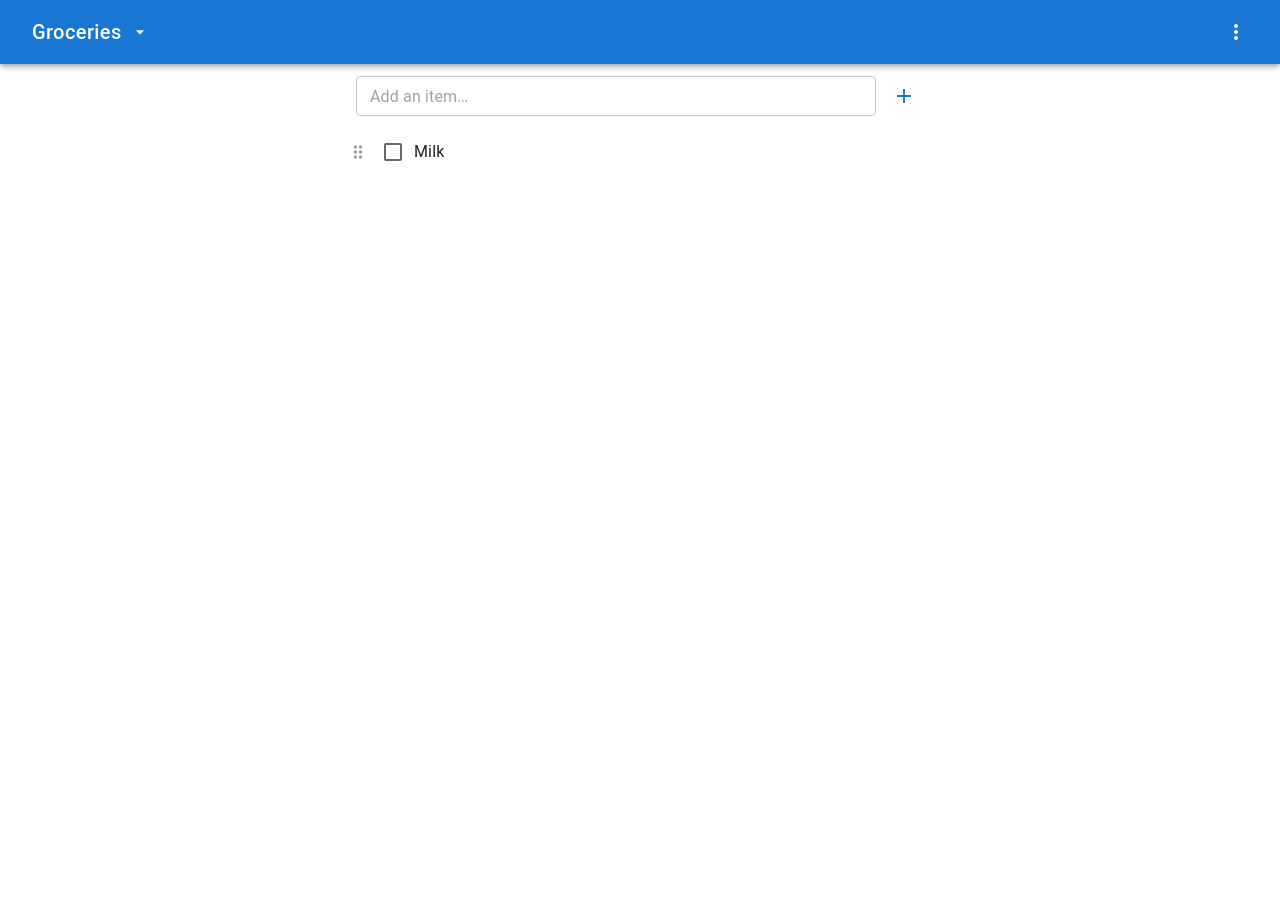
Test: multiple lists › deletes the current list and navigates to a surviving one
expect the text "Milk" is shown: met, box x1=414 y1=142 x2=444 y2=161
Click the button named "More options": (1236, 32) x1=1216 y1=12 x2=1256 y2=52
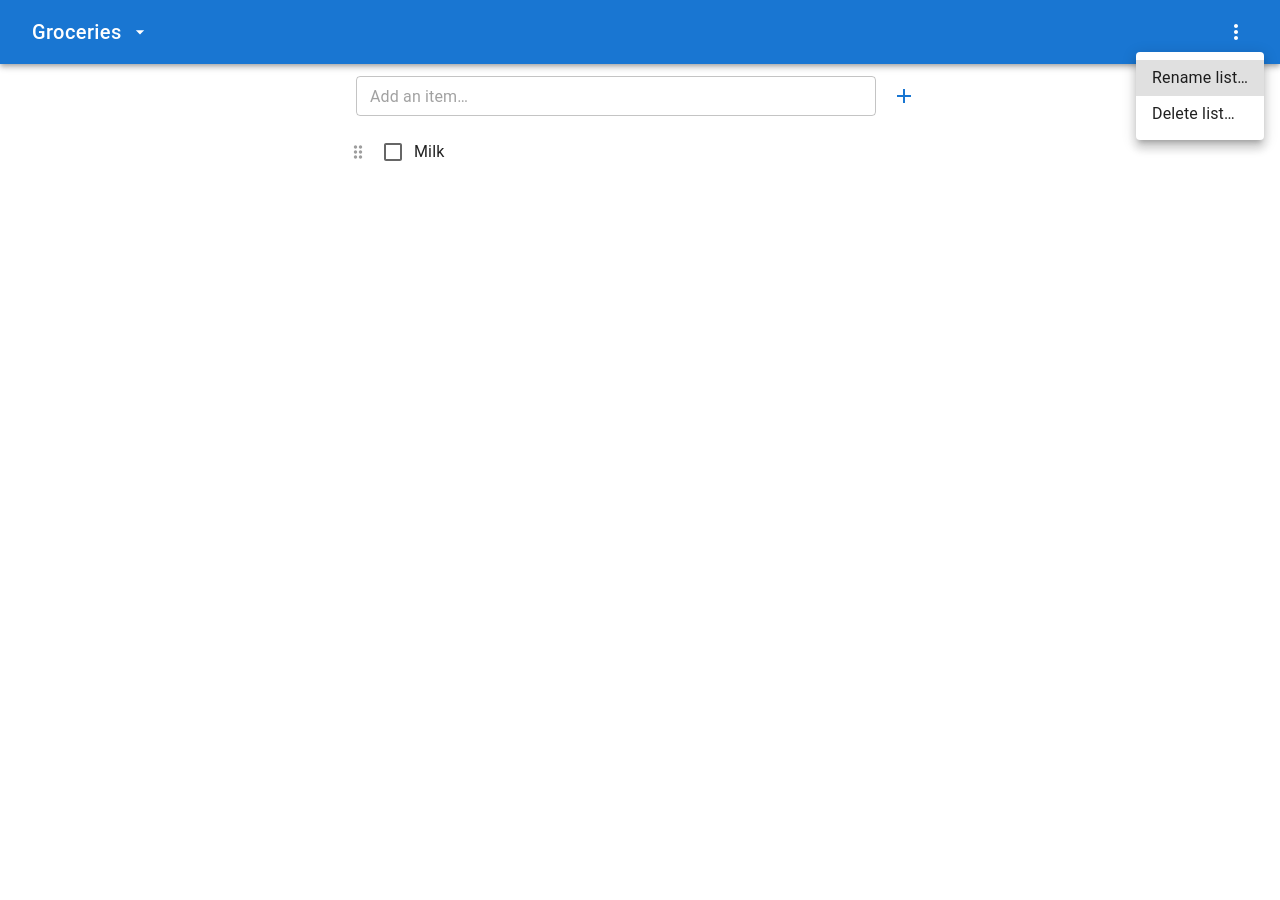
Click the menu item "Delete list…": (1193, 114) x1=1152 y1=104 x2=1235 y2=123
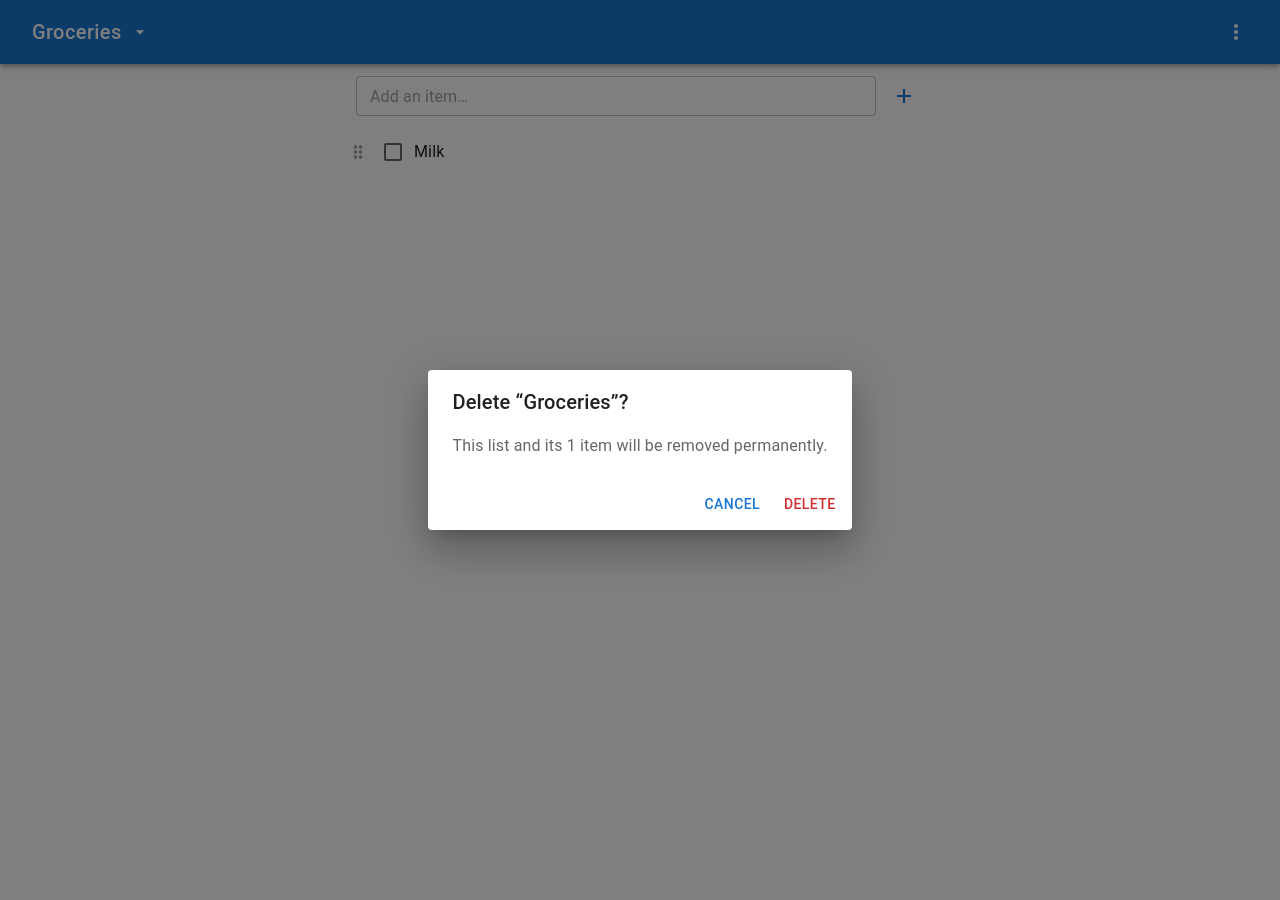
Click the button "Delete": (810, 504) x1=776 y1=486 x2=844 y2=522
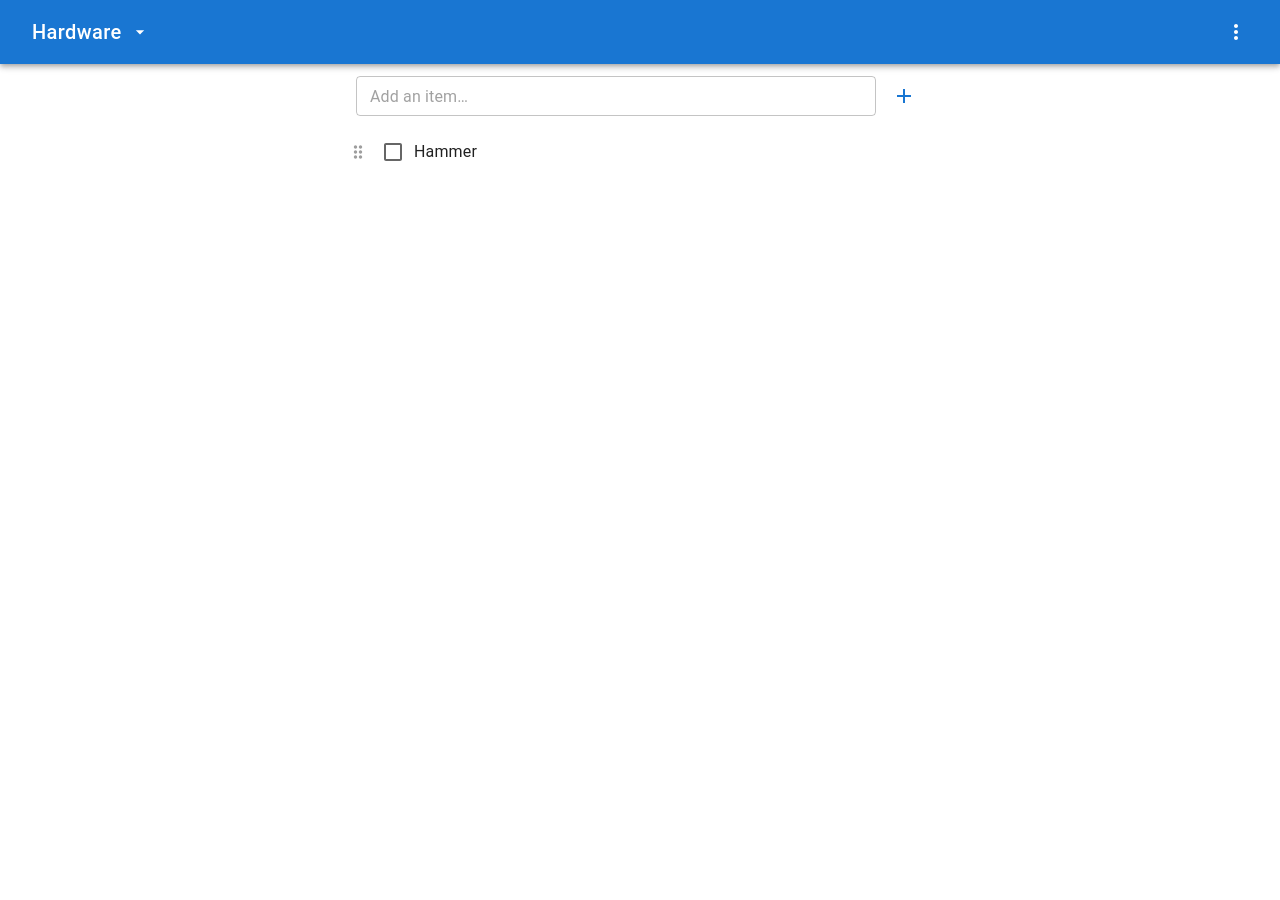
expect the text "Hammer" is shown: met, box x1=414 y1=142 x2=477 y2=161
